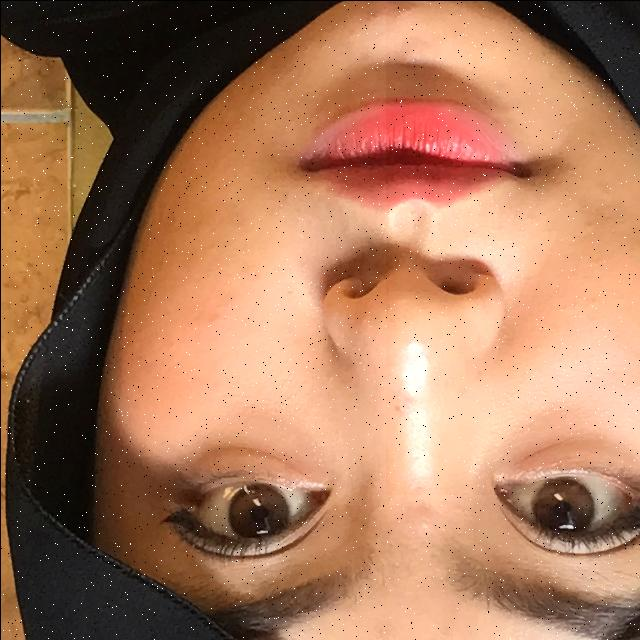ibu: (385, 0, 640, 494)
